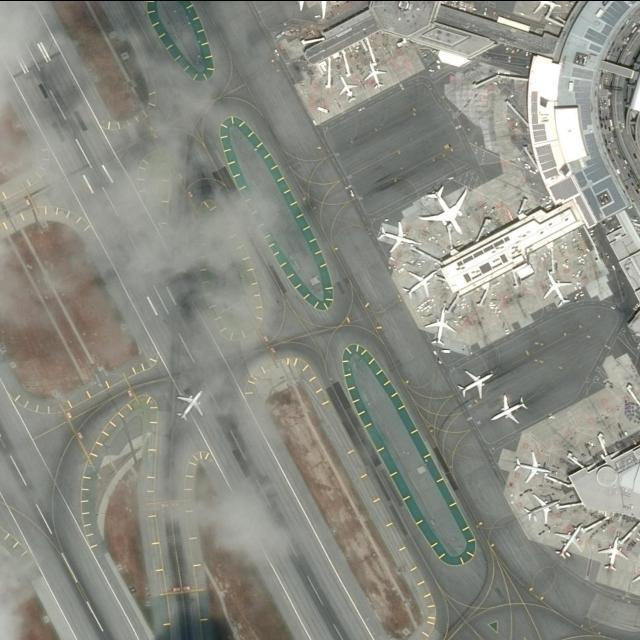Aircraft: (420, 181, 469, 234), (423, 302, 457, 347), (490, 391, 530, 428), (374, 219, 416, 253), (455, 363, 493, 399), (554, 521, 589, 559), (521, 489, 560, 523), (402, 264, 438, 300), (510, 450, 548, 480), (597, 534, 628, 570), (176, 385, 206, 421), (543, 266, 570, 306), (288, 0, 340, 18), (335, 72, 358, 102), (363, 58, 385, 88), (523, 0, 558, 14)
